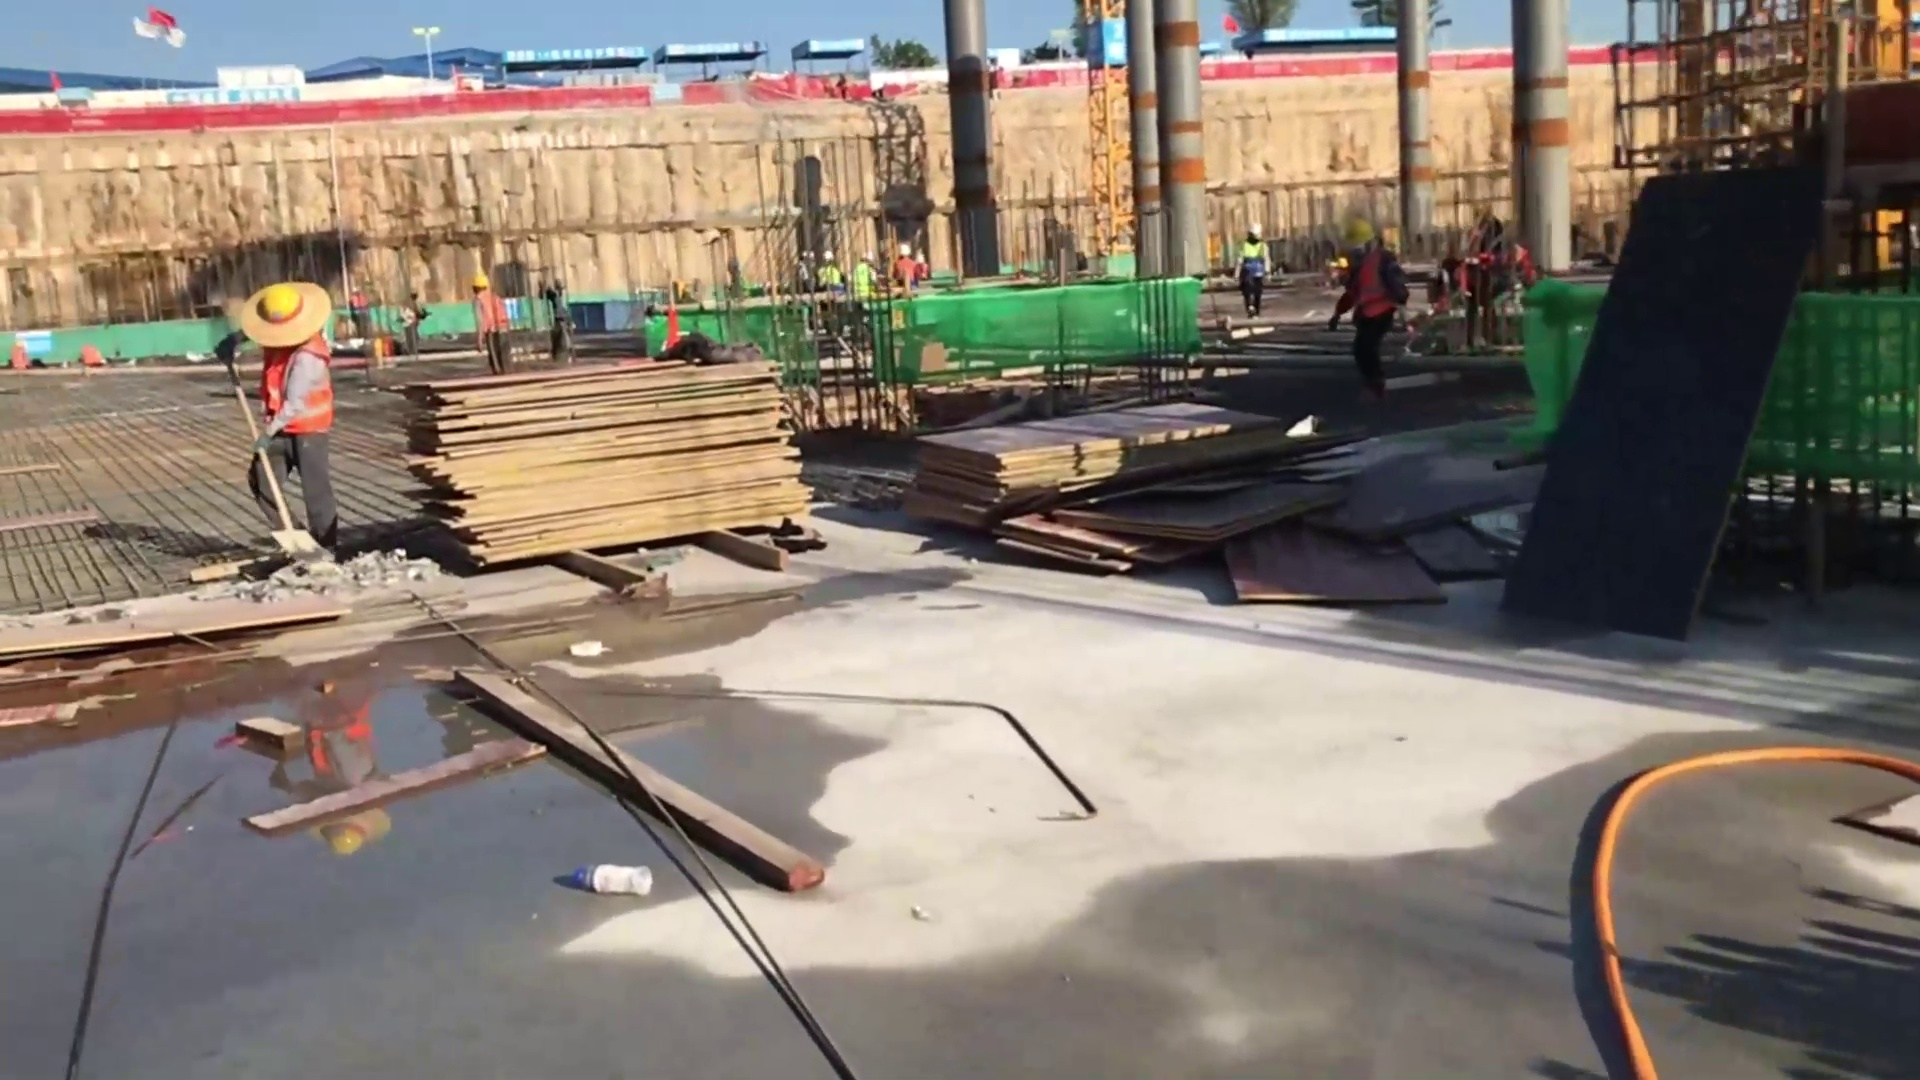helmet: (259, 282, 305, 327)
person: (221, 276, 340, 546), (1331, 219, 1409, 373), (462, 273, 513, 362), (1236, 230, 1267, 318), (854, 246, 877, 312), (889, 241, 916, 291), (815, 249, 843, 296)
vest: (253, 343, 333, 434)
